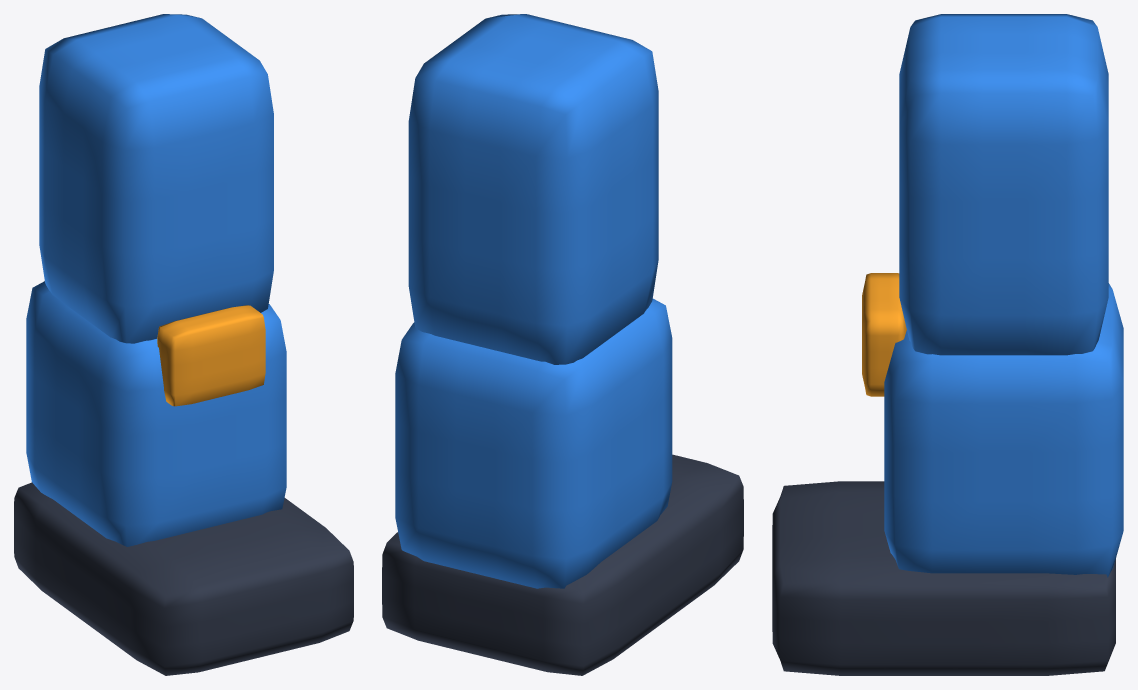
Rendered from leg_tread.obj.
The picture shows the model from 3 angles, left to right: view 1: azimuth 30°, elevation 25°; view 2: azimuth 150°, elevation 25°; view 3: azimuth 270°, elevation 25°; orthographic projection. The views are drawn at different scales.
Bounding box in the file's own units: 0.34 × 0.87 × 0.47.
